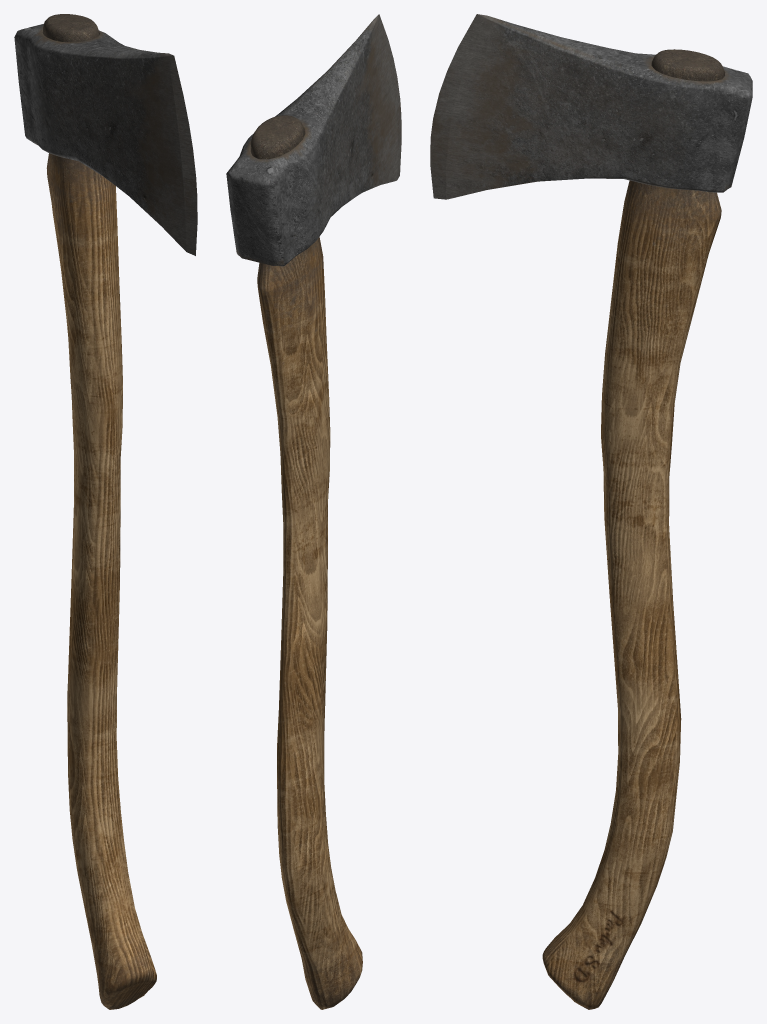
Rendered from axe.glb.
The picture shows the model from 3 angles, left to right: view 1: azimuth 30°, elevation 25°; view 2: azimuth 150°, elevation 25°; view 3: azimuth 270°, elevation 25°; orthographic projection. The views are drawn at different scales.
Parts seen in each view (by area): view 1: wooden_axe_02; view 2: wooden_axe_02; view 3: wooden_axe_02.
Part boxes in pixels (<box>): wooden_axe_02: <box>14,14,197,1009</box>; wooden_axe_02: <box>226,14,401,1009</box>; wooden_axe_02: <box>430,14,752,1009</box>.
Bounding box in the file's own units: 0.0607 × 0.86 × 0.2528.
1 material, 1 textured.
